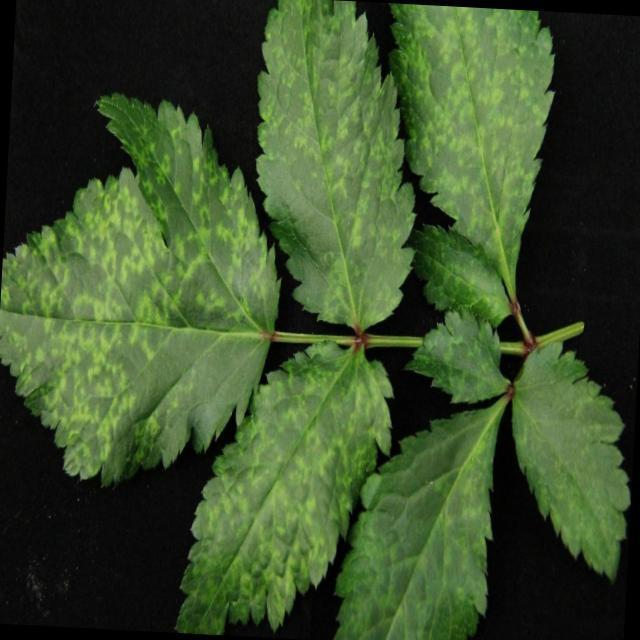Mosaic Virus: (0, 100, 287, 485), (170, 336, 376, 640), (245, 0, 419, 333), (392, 4, 550, 292), (353, 397, 504, 640), (508, 338, 636, 588), (413, 315, 512, 408)
